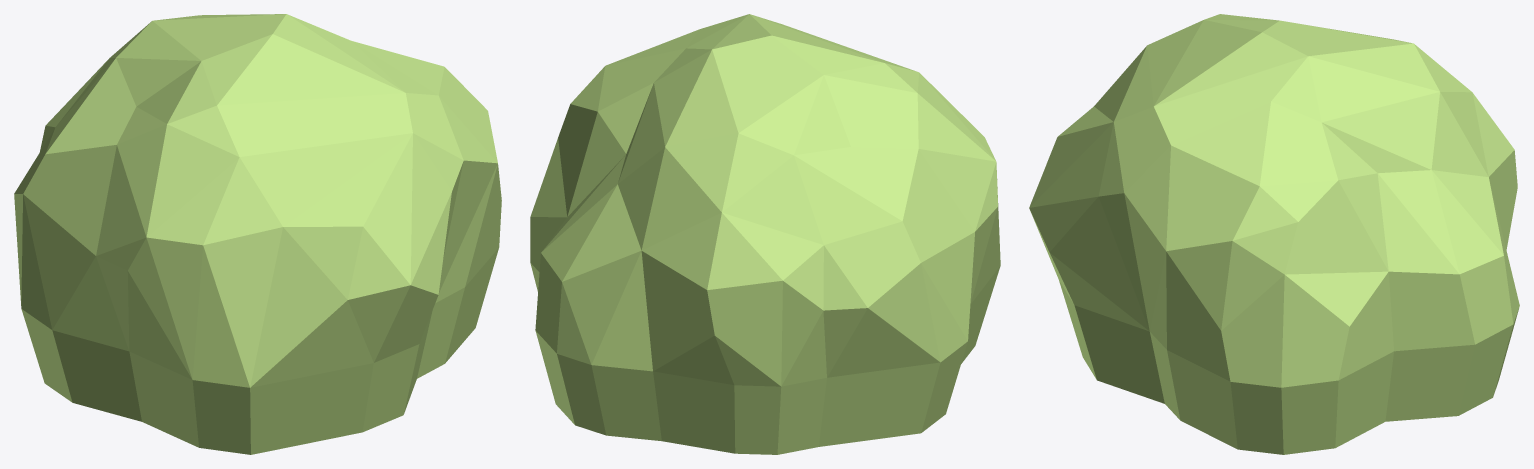
File: Bush_b_l_04.fbx
3 views of the same model, side by side, from view 1: azimuth 30°, elevation 25°; view 2: azimuth 150°, elevation 25°; view 3: azimuth 270°, elevation 25° (orthographic).
Visible parts, largest first — view 1: Bush_b_l_04; view 2: Bush_b_l_04; view 3: Bush_b_l_04.
Boxes of the visible parts, x1,y1,x2,y2 form: Bush_b_l_04: (14, 14, 501, 454); Bush_b_l_04: (530, 14, 1000, 454); Bush_b_l_04: (1029, 14, 1519, 454).
Size of the model in its own units: 3.12 by 2.27 by 3.1.
